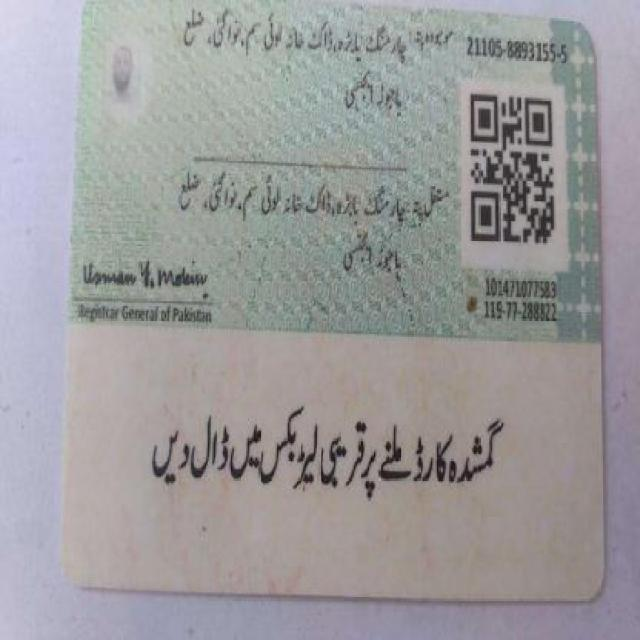Back: (66, 4, 606, 604)
